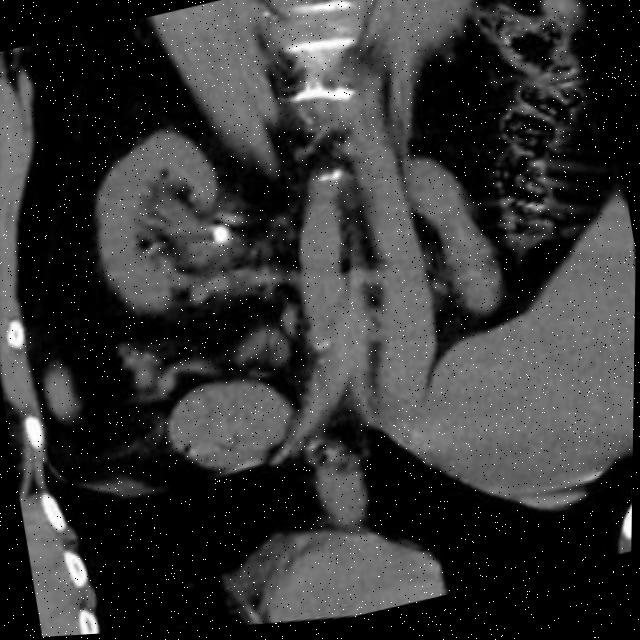Tas_Var: (208, 218, 236, 256)
